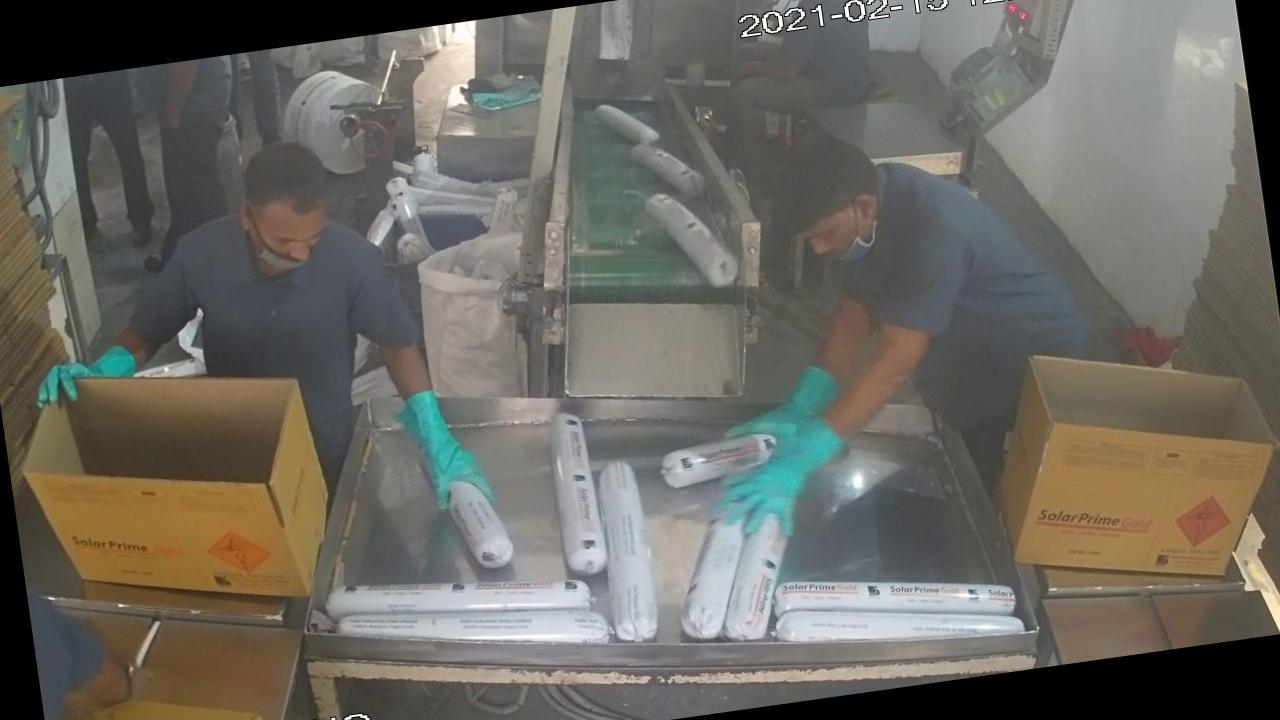Gloves: (686, 412, 879, 556), (373, 362, 500, 523), (16, 338, 161, 420)
No-gloves: (699, 36, 804, 113)
